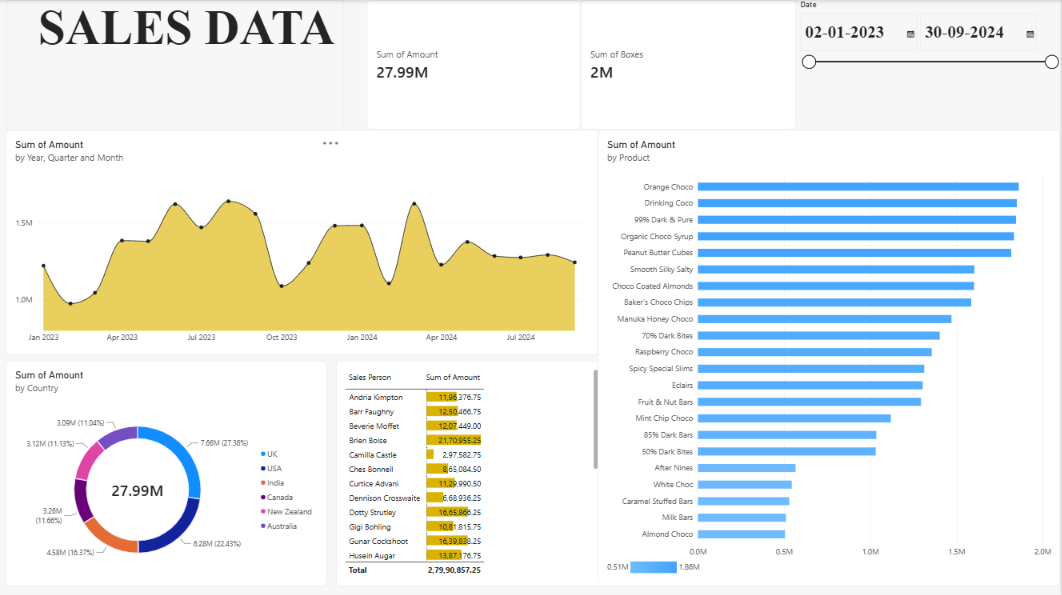

The dashboard page shown, as its layout file describes it:
{"tool":"powerbi","page":{"name":"Page 1","canvas":[1920,1080],"ordinal":0},"visuals":[{"type":"lineChart","fields":{"Category":["data.Date.Variation.Date Hierarchy.Year","data.Date.Variation.Date Hierarchy.Quarter","data.Date.Variation.Date Hierarchy.Month","data.Date.Variation.Date Hierarchy.Day"],"Y":["Sum(data.Amount)"]},"box":[10.3,234.6,1072.4,407.5],"z":0},{"type":"donutChart","fields":{"Category":["data.Country"],"Y":["Sum(data.Amount)"]},"box":[10.3,652.5,580.4,407.5],"z":1000},{"type":"tableEx","fields":{"Values":["data.Sales Person","Sum(data.Amount)"]},"box":[607.2,652.5,491.9,407.5],"z":2000},{"type":"clusteredBarChart","fields":{"Category":["data.Product"],"Y":["Sum(data.Amount)"]},"box":[1082.7,234.6,837.7,825.4],"z":3000},{"type":"cardVisual","fields":{"Data":["Sum(data.Boxes)"]},"box":[1051.8,0,389,234.6],"z":3001},{"type":"cardVisual","fields":{"Data":["Sum(data.Amount)"]},"box":[664.8,0,387,234.6],"z":3002},{"type":"textbox","box":[10.3,0,611.3,234.6],"z":3003},{"type":"slicer","fields":{"Values":["data.Date"]},"box":[1441,0,479,235],"z":3004}]}

Visuals, with their boxes in screenshot pixels (x1, y1, x2, y2), scaled from the page's 1920x1080 canvas onto the 1062x595 screenshot:
lineChart - data.Date.Variation.Date Hierarchy.Year x data.Date.Variation.Date Hierarchy.Quarter: (left=6, top=129, right=599, bottom=354)
donutChart - data.Country x Sum(data.Amount): (left=6, top=359, right=327, bottom=584)
tableEx - data.Sales Person x Sum(data.Amount): (left=336, top=359, right=608, bottom=584)
clusteredBarChart - data.Product x Sum(data.Amount): (left=599, top=129, right=1061, bottom=584)
cardVisual - Sum(data.Boxes): (left=582, top=0, right=797, bottom=129)
cardVisual - Sum(data.Amount): (left=368, top=0, right=582, bottom=129)
textbox: (left=6, top=0, right=344, bottom=129)
slicer - data.Date: (left=797, top=0, right=1061, bottom=129)
